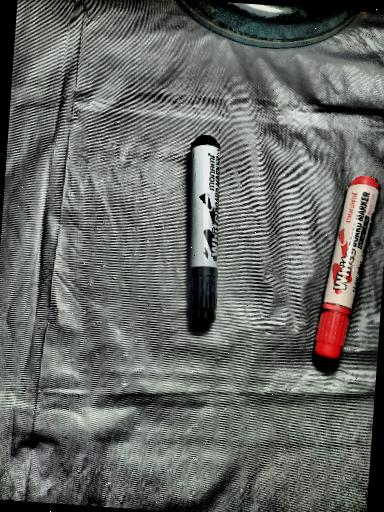marcador negro: (189, 135, 220, 325)
marcador rojo: (314, 175, 380, 362)
